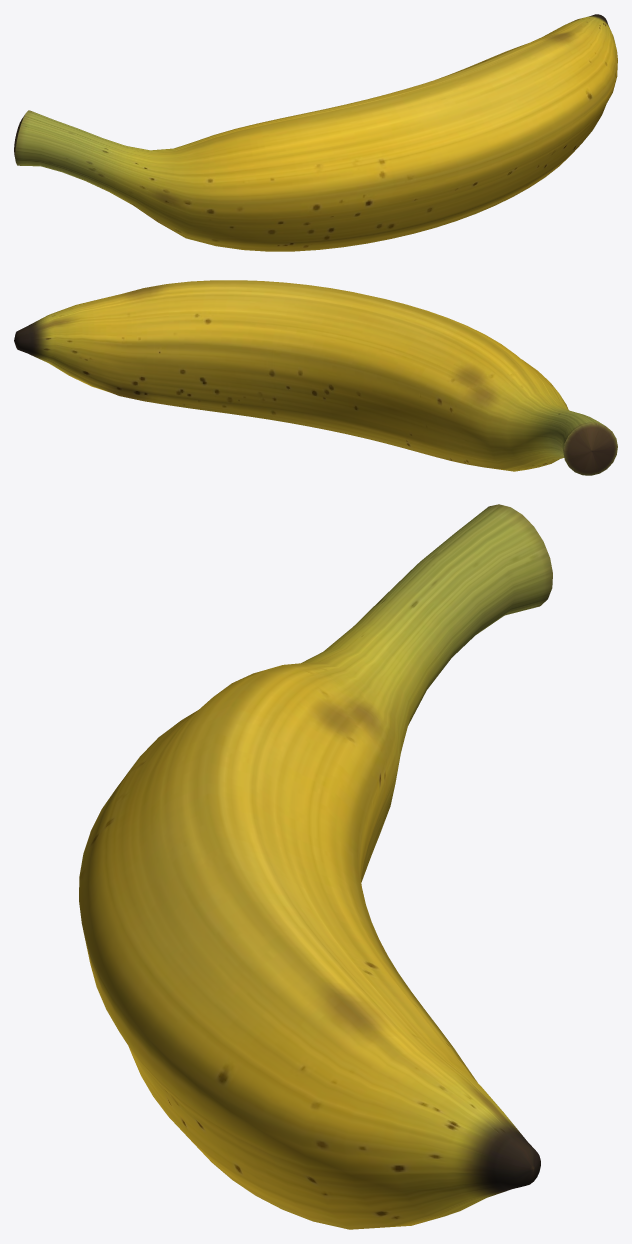
File: banana.glb
The picture shows the model from 3 angles, top to bottom: view 1: azimuth 30°, elevation 25°; view 2: azimuth 150°, elevation 25°; view 3: azimuth 270°, elevation 25°; orthographic projection. The views are drawn at different scales.
Visible parts, largest first — view 1: banana_mesh; view 2: banana_mesh; view 3: banana_mesh.
Part boxes in pixels (box(x1,y1,x2,y2)): banana_mesh: box(14, 14, 617, 251); banana_mesh: box(14, 280, 617, 475); banana_mesh: box(79, 504, 552, 1229).
Bounding box in the file's own units: 0.1754 × 0.0361 × 0.0607.
1 material, 1 textured.
